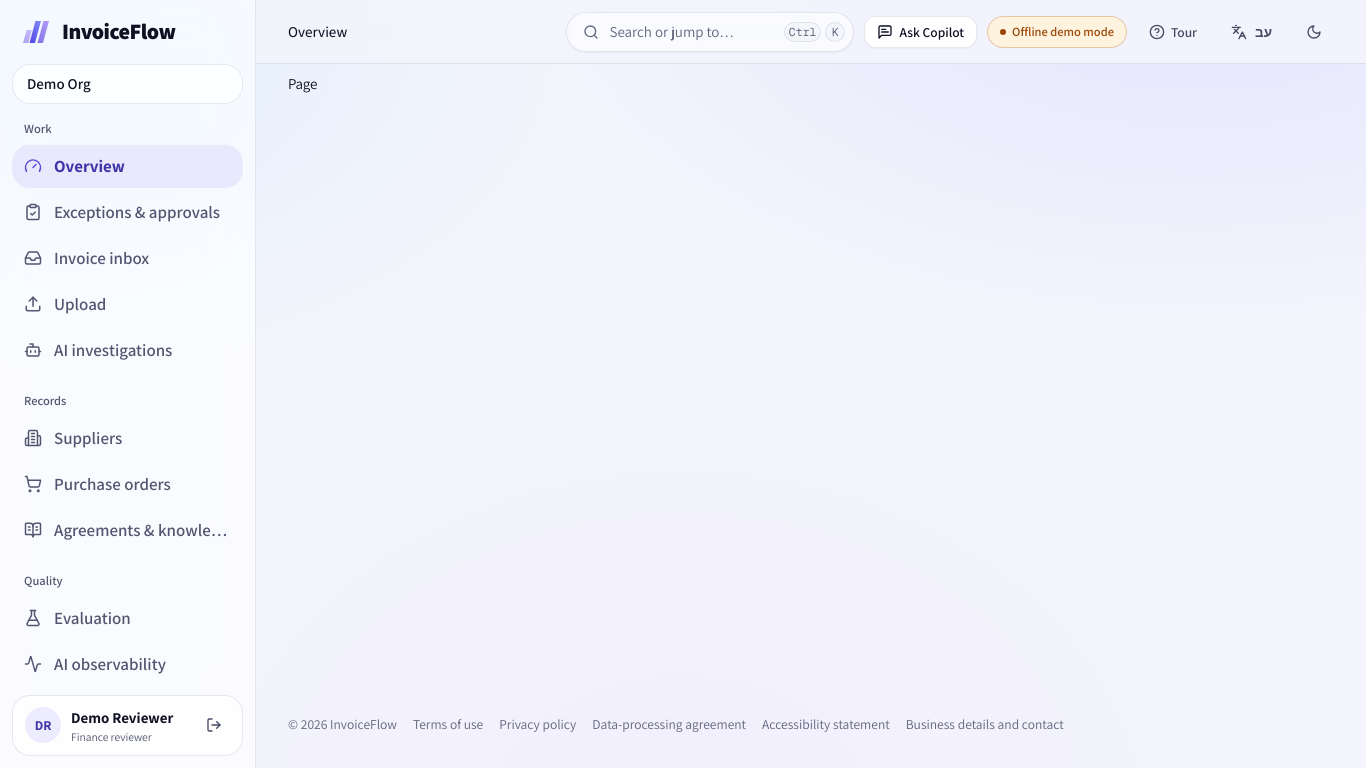
it: command palette › opens from the top-bar search button
Click the button "Search or jump to… Ctrl K" at (710, 32), box 566,12 -> 854,52
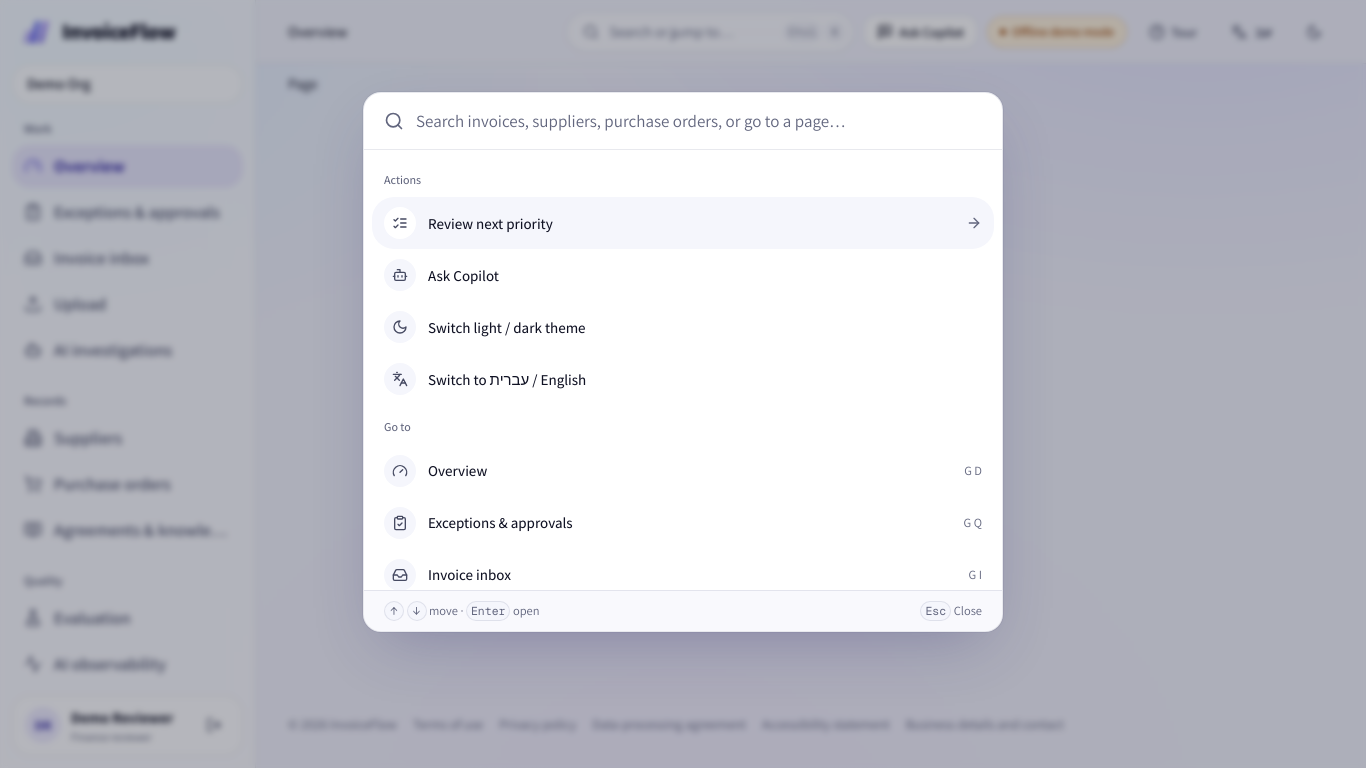
Expected: the dialog named "Command palette" is shown, 363,92 -> 1003,632
